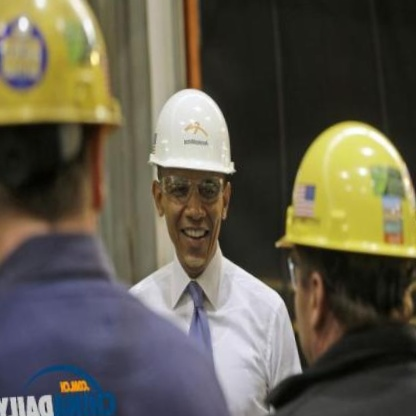white: (138, 76, 251, 193)
yellow: (265, 111, 416, 280)
